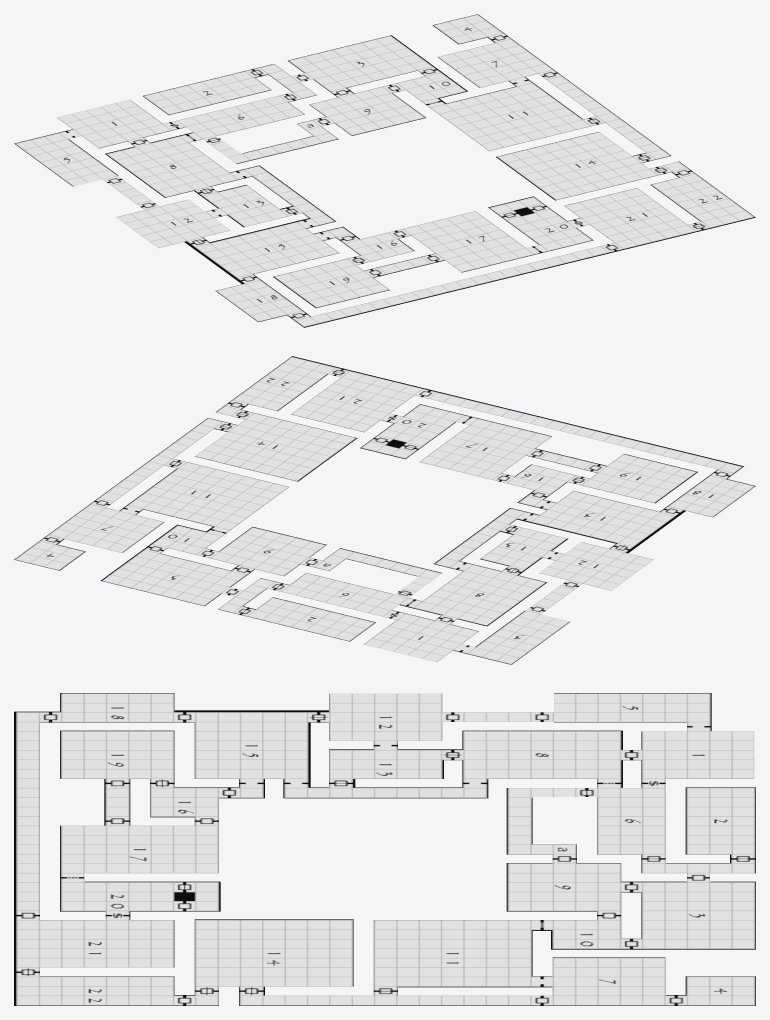
File: floorMap.fbx
3 renders of one model, top to bottom at view 1: azimuth 30°, elevation 25°; view 2: azimuth 150°, elevation 25°; view 3: azimuth 270°, elevation 25°, orthographic. The views are drawn at different scales.
Visible parts, largest first — view 1: maze; view 2: maze; view 3: maze.
Boxes of the visible parts, x1,y1,x2,y2 form: maze: (14, 14, 755, 327); maze: (14, 356, 755, 664); maze: (14, 693, 755, 1005).
Size of the model in its own units: 19536 by 0.00319 by 19576.
